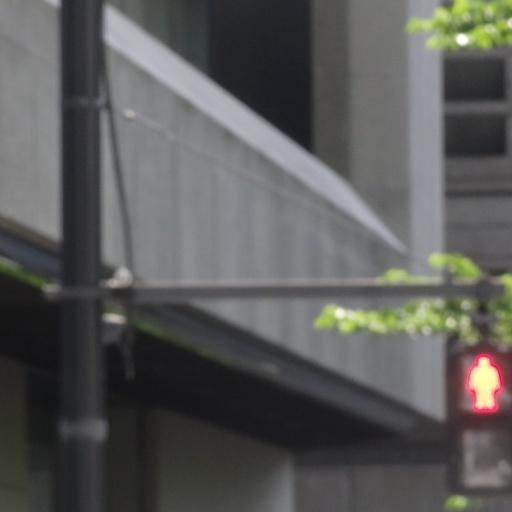Pedestrian_Signal_Red: (449, 341, 511, 483)
